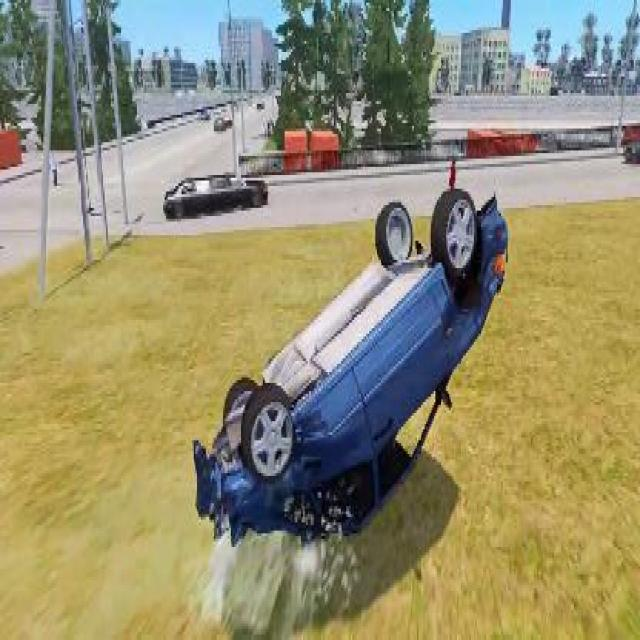accident: (191, 178, 515, 596)
